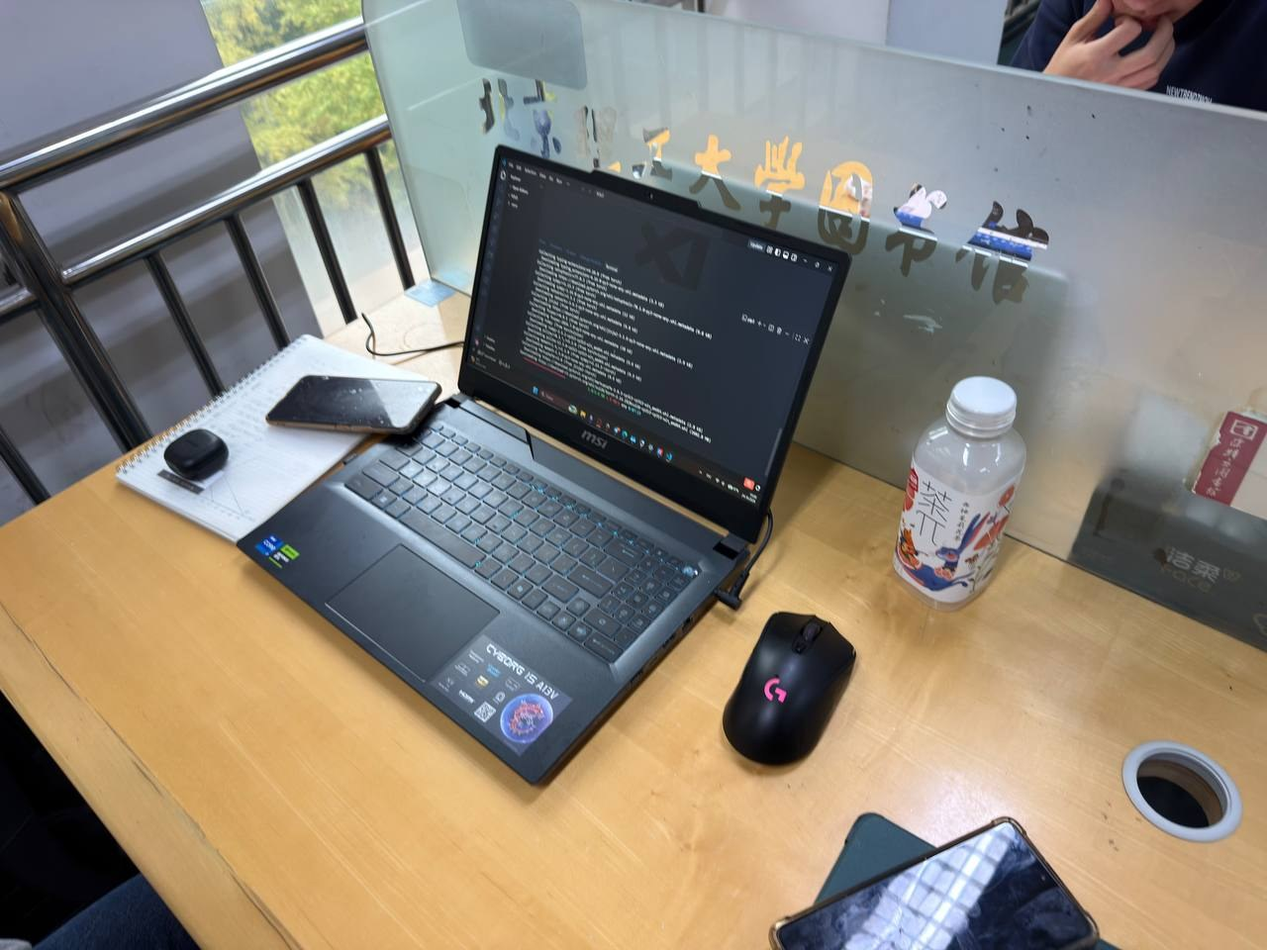cell phone: (769, 815, 1103, 949), (265, 373, 442, 436)
laptop: (235, 143, 853, 785)
